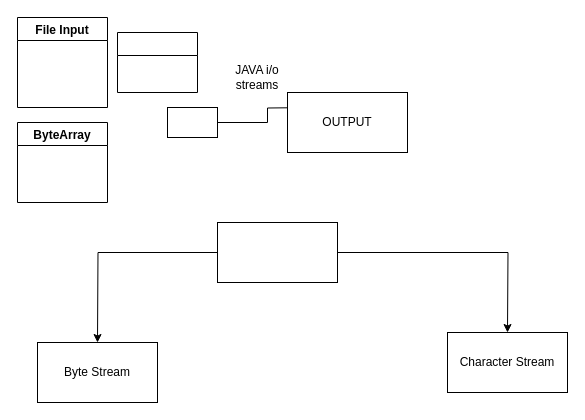
Some shapes in this 585 by 420 pixel diagram are drawn without their labels. The shapes that lost their labels are listed below. From the top down, each one's box as (x1, y1, x2, y2) in pixels, then its label:
(116, 32, 198, 92): ObjectInput
(166, 106, 218, 138): INPUT
(216, 222, 338, 282): Two Types of Streams
